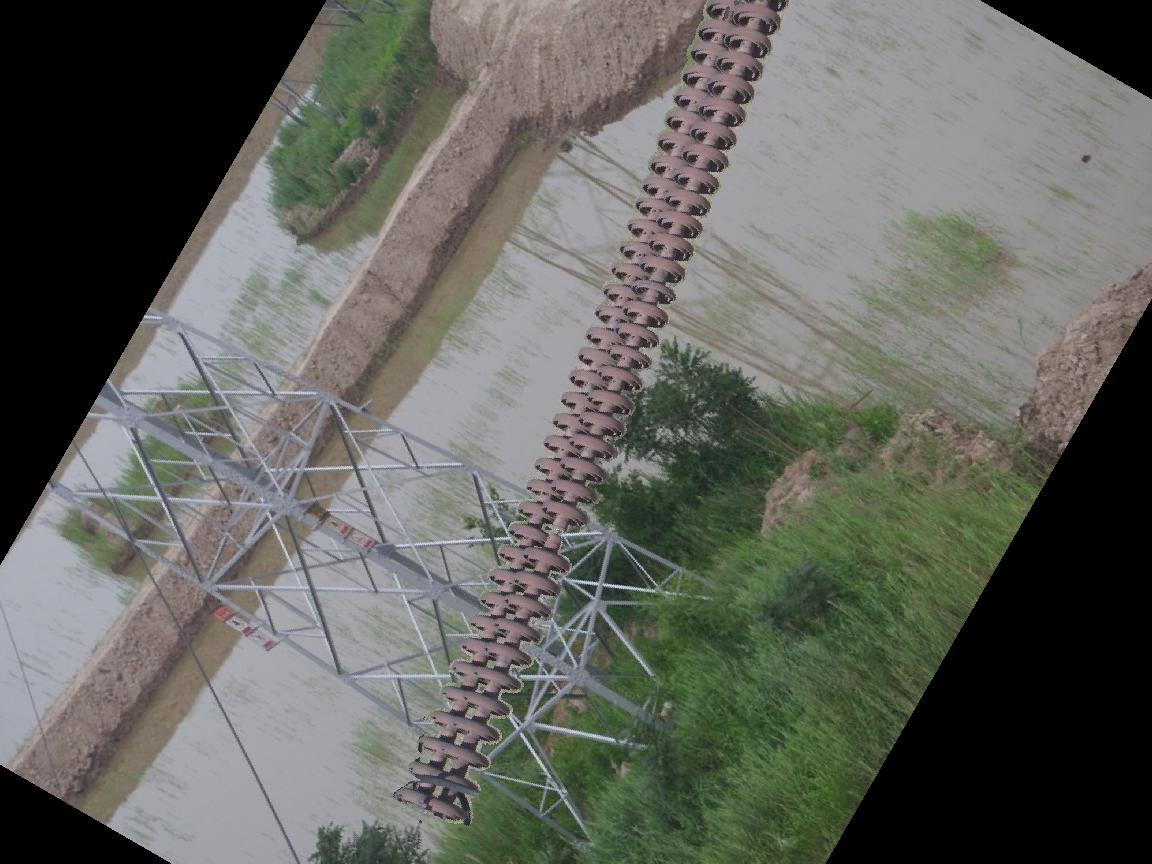insulator: (384, 1, 789, 829)
insulator_stringdrop: (519, 496, 587, 574)
